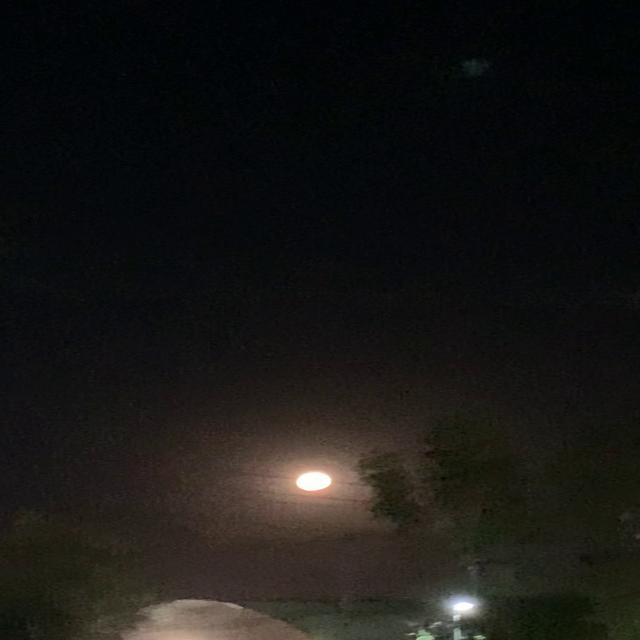moon: (278, 471, 331, 496)
